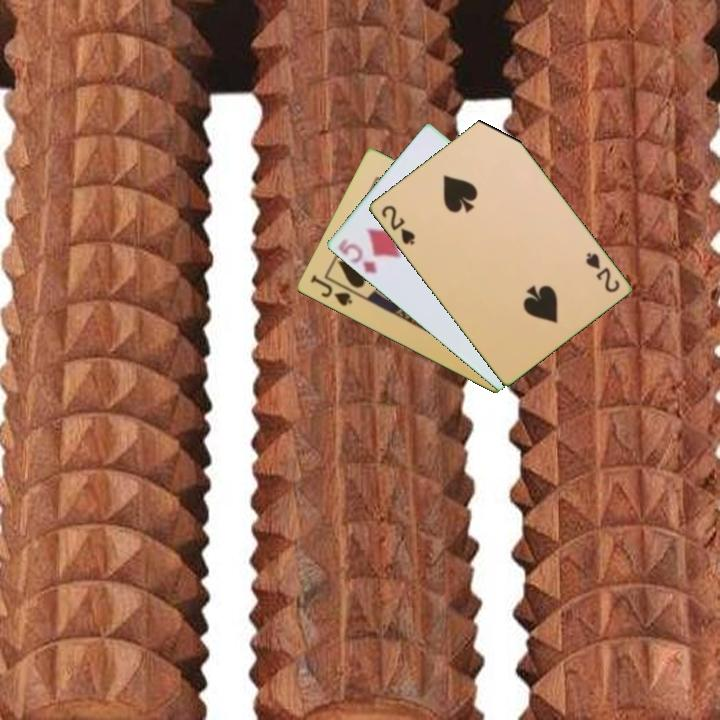2s: (377, 202, 418, 248), (582, 249, 622, 296)
5d: (334, 234, 380, 277)
Js: (307, 271, 355, 309)
